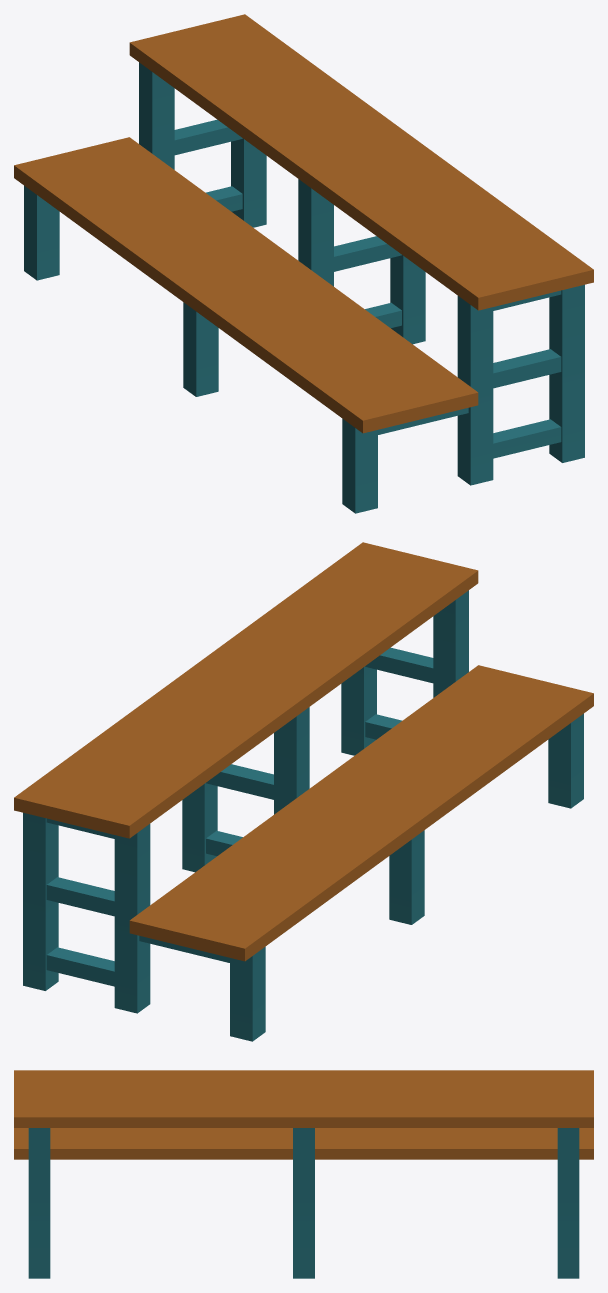
Rendered from Bench_1_E_5.fbx.
3 views of the same model, one above another, from view 1: azimuth 30°, elevation 25°; view 2: azimuth 150°, elevation 25°; view 3: azimuth 270°, elevation 25° (orthographic). The views are drawn at different scales.
Parts seen in each view (by area): view 1: Bench_1_E_5; view 2: Bench_1_E_5; view 3: Bench_1_E_5.
Boxes of the visible parts, x1,y1,x2,y2 form: Bench_1_E_5: [14, 14, 593, 513]; Bench_1_E_5: [14, 542, 593, 1041]; Bench_1_E_5: [14, 1070, 593, 1278].
Bounding box in the file's own units: 81.37 × 65.4 × 213.
